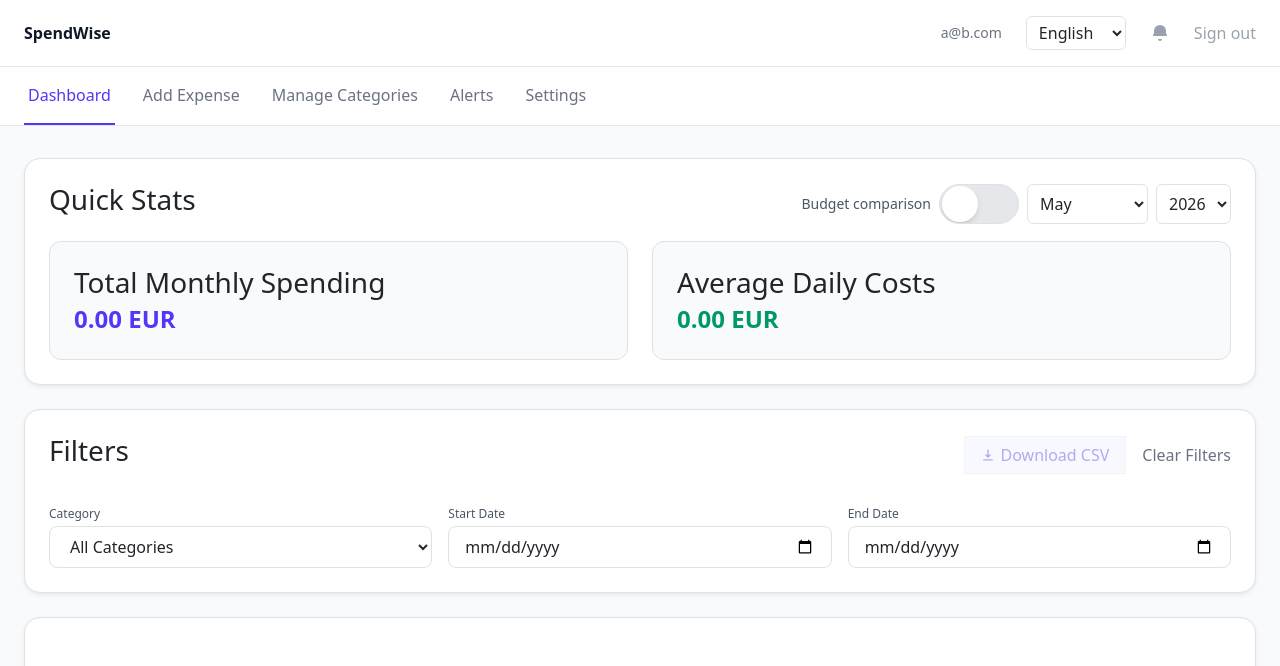
Test: DashboardPage › shows an empty state when the budget comparison returns no statuses
Click the switch named "budget comparison" at [979, 204], box x1=939 y1=184 x2=1019 y2=224
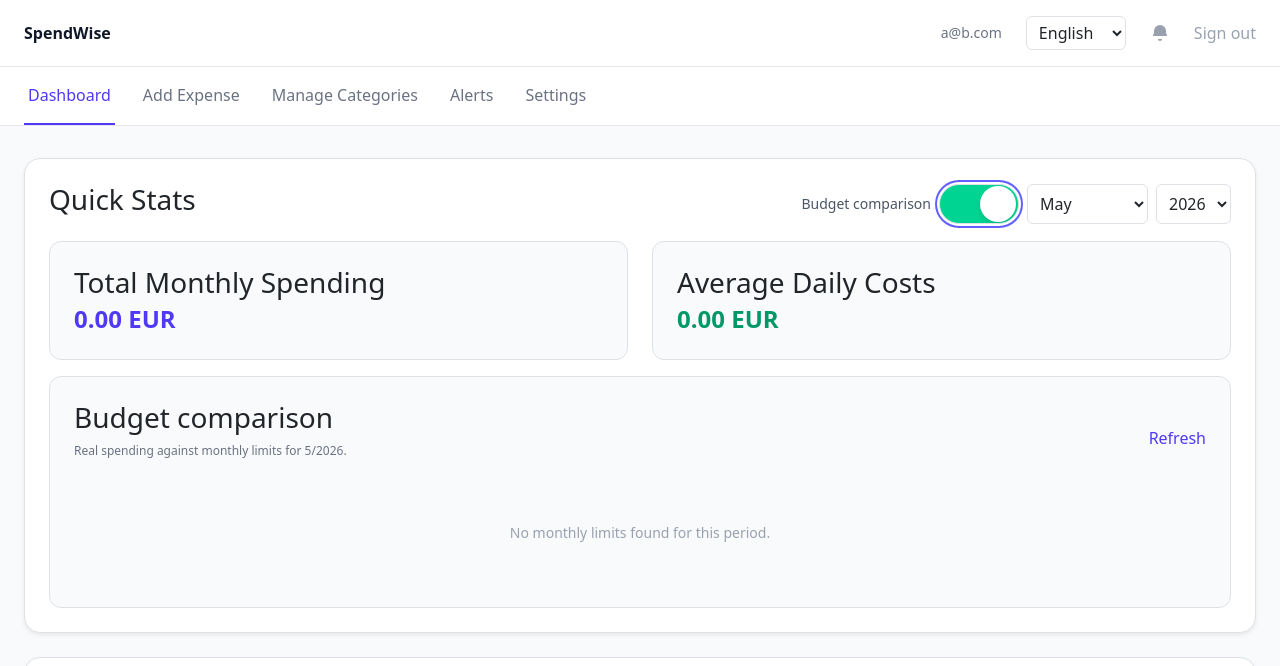
Now the text "No monthly limits found for this period." is shown, box x1=510 y1=523 x2=770 y2=542
